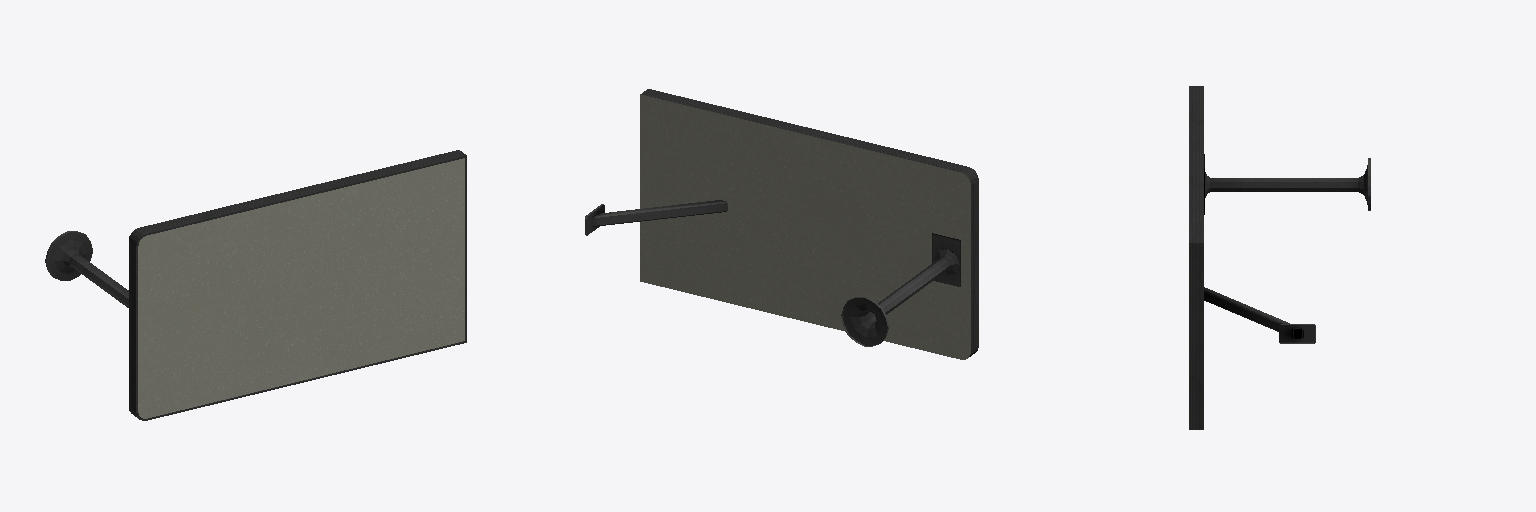
3 views of the same model, side by side, from view 1: azimuth 30°, elevation 25°; view 2: azimuth 150°, elevation 25°; view 3: azimuth 270°, elevation 25° (orthographic).
Parts seen in each view (by area): view 1: mtl_nt_kitchen_table; view 2: mtl_nt_kitchen_table; view 3: mtl_nt_kitchen_table.
Part boxes in pixels (x1,y1,x2,y2): mtl_nt_kitchen_table: (45, 150, 466, 420); mtl_nt_kitchen_table: (585, 89, 978, 359); mtl_nt_kitchen_table: (1189, 86, 1370, 429).
Size of the model in its own units: 183 by 99.06 by 87.5.
1 materials, 1 textured.